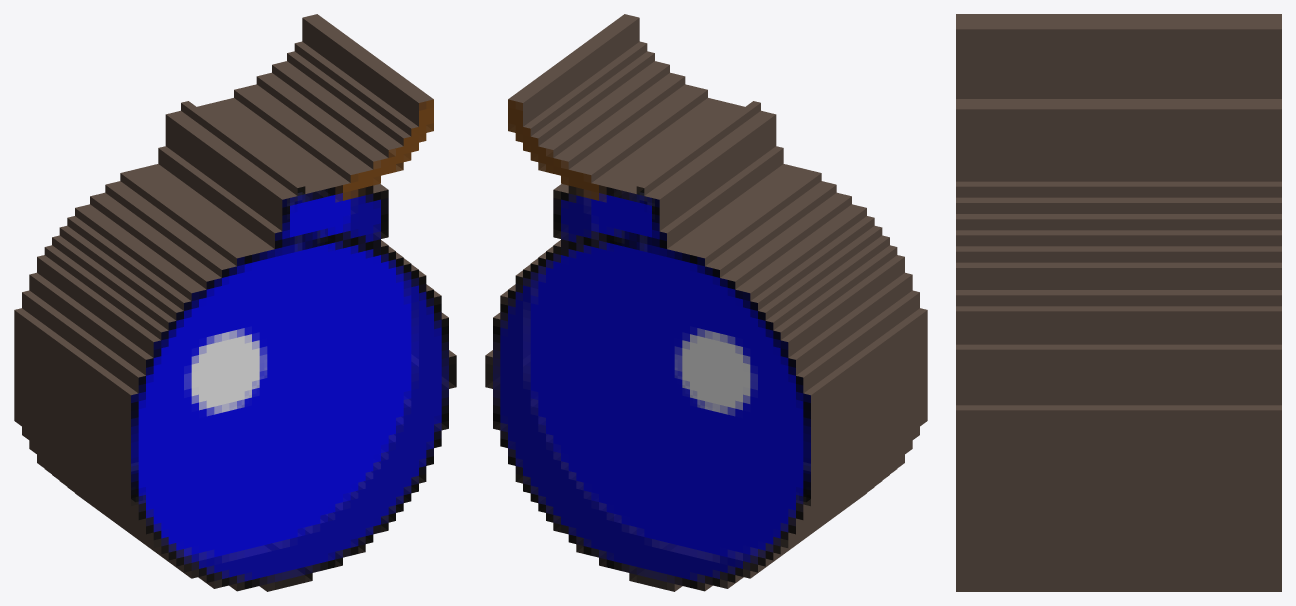
The picture shows the model from 3 angles, left to right: view 1: azimuth 30°, elevation 25°; view 2: azimuth 150°, elevation 25°; view 3: azimuth 270°, elevation 25°; orthographic projection. The views are drawn at different scales.
Visible parts, largest first — view 1: 12; view 2: 12; view 3: 12.
Part boxes in pixels (bbox=[...]): 12: bbox=[14, 14, 456, 591]; 12: bbox=[485, 14, 927, 591]; 12: bbox=[956, 14, 1281, 591].
Bounding box in the file's own units: 0.3225 × 0.4275 × 0.2.
2 materials, 1 textured.
